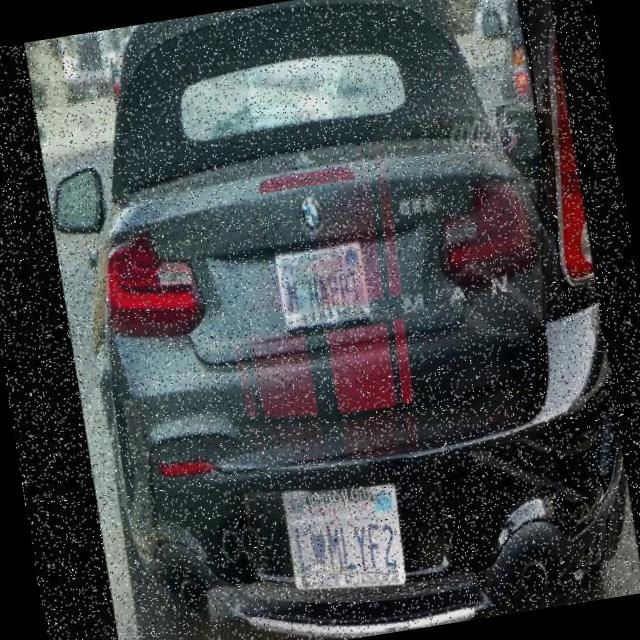LicensePlate: (280, 476, 408, 602), (273, 240, 374, 334)
